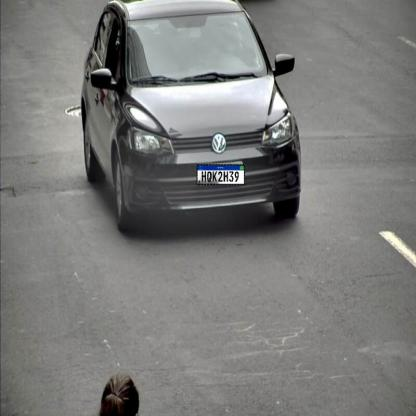PlacaM: (196, 164, 245, 185)
